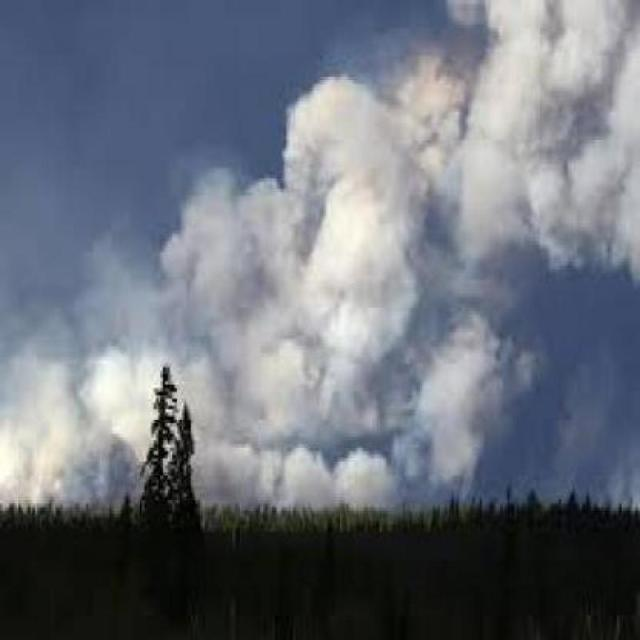Smoke: (15, 286, 490, 509)
